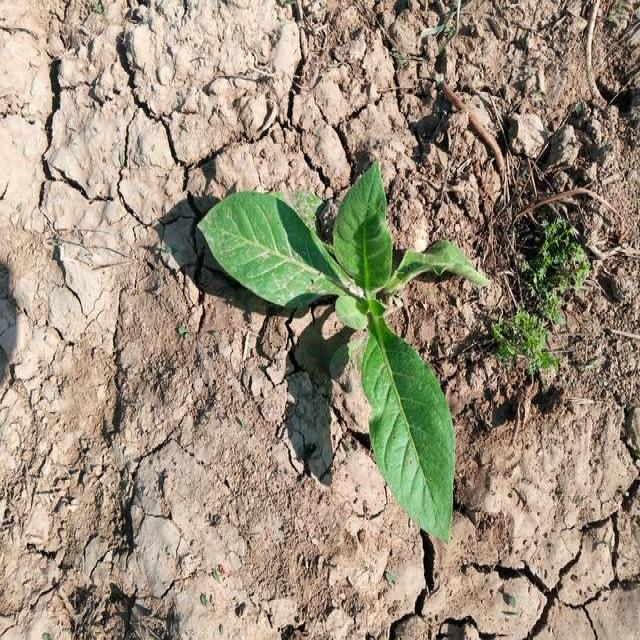crop: (207, 175, 479, 538)
